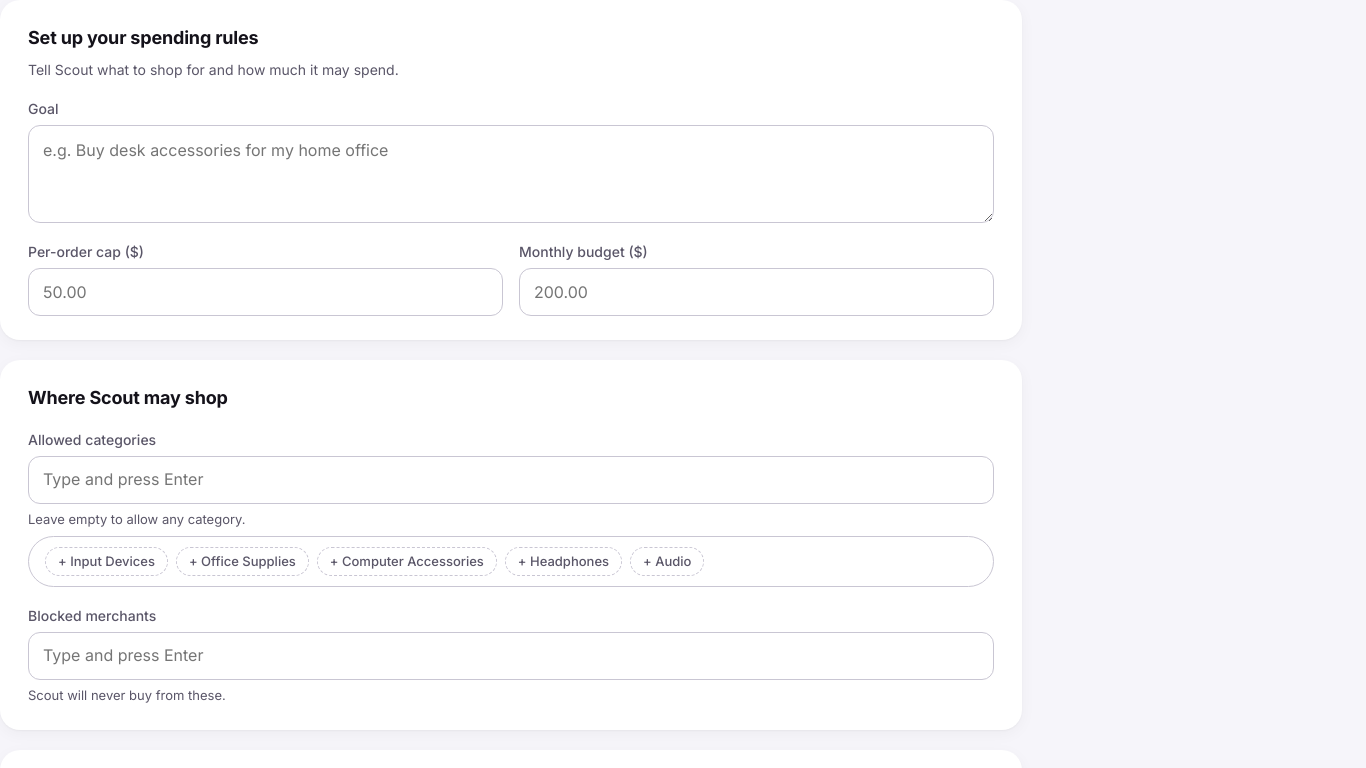
Test: Rules page › clicking a suggestion keeps the typed draft as a chip
Type "Toys" into the field labelled "Allowed categories" at (511, 479), box [39, 463, 983, 495]
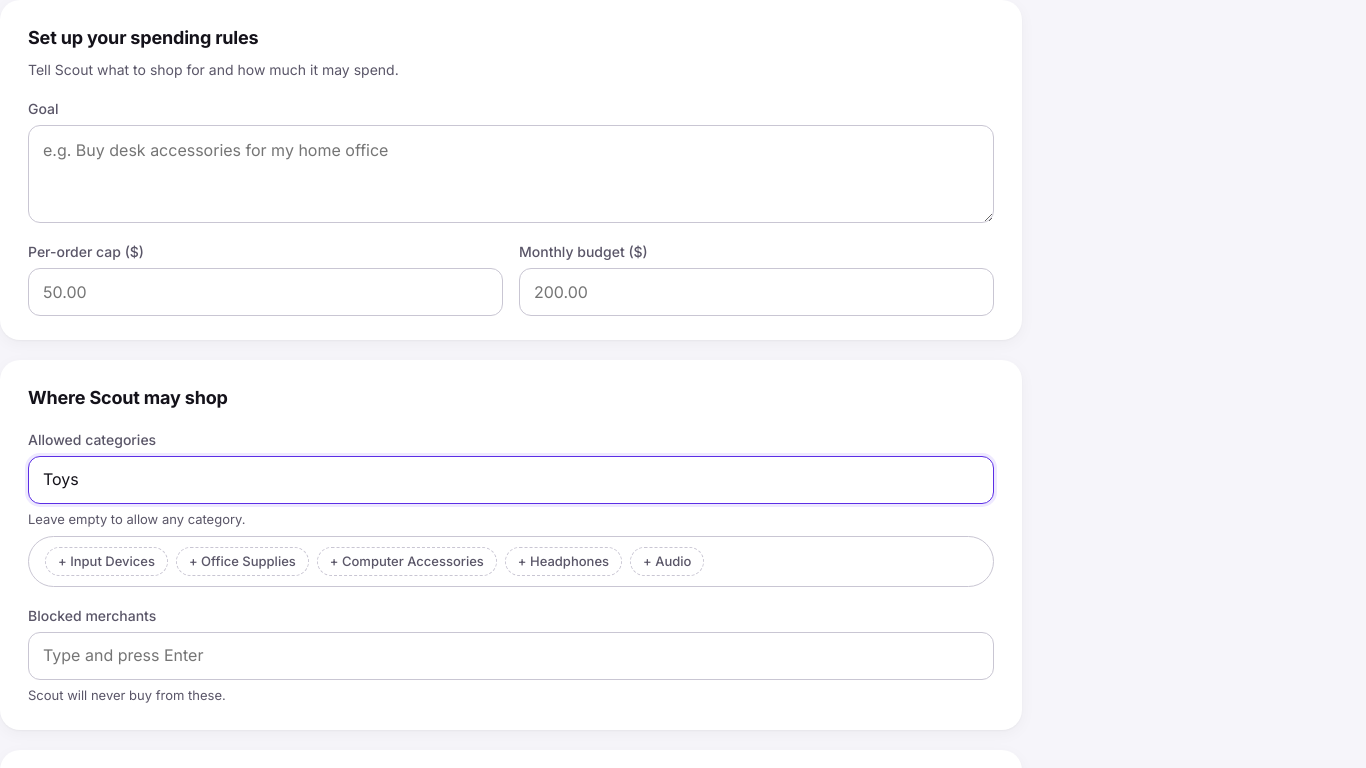
Click the button "+ Audio" at (667, 561), box [630, 546, 704, 576]
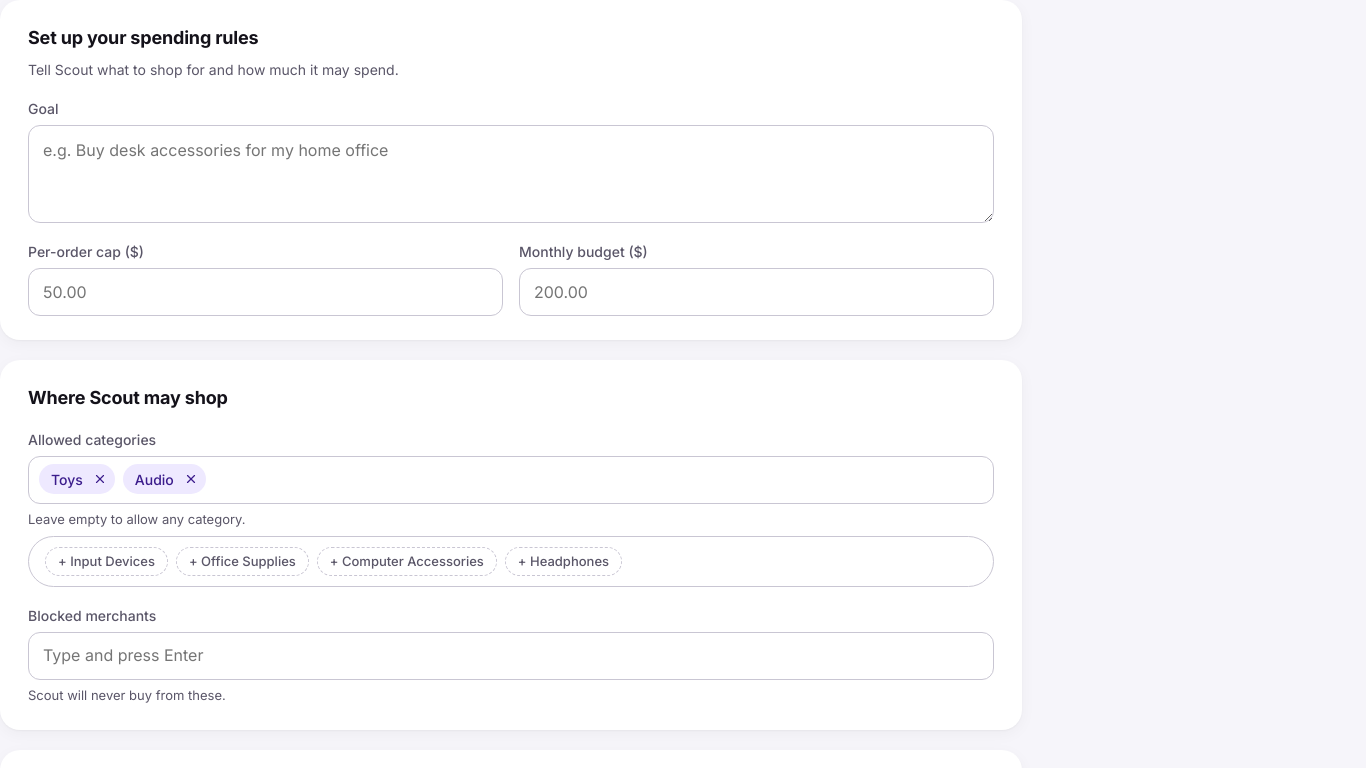
Expected: the text "Audio" is shown, [123, 464, 206, 494]
Expected: the text "Toys" is shown, [39, 464, 115, 494]
